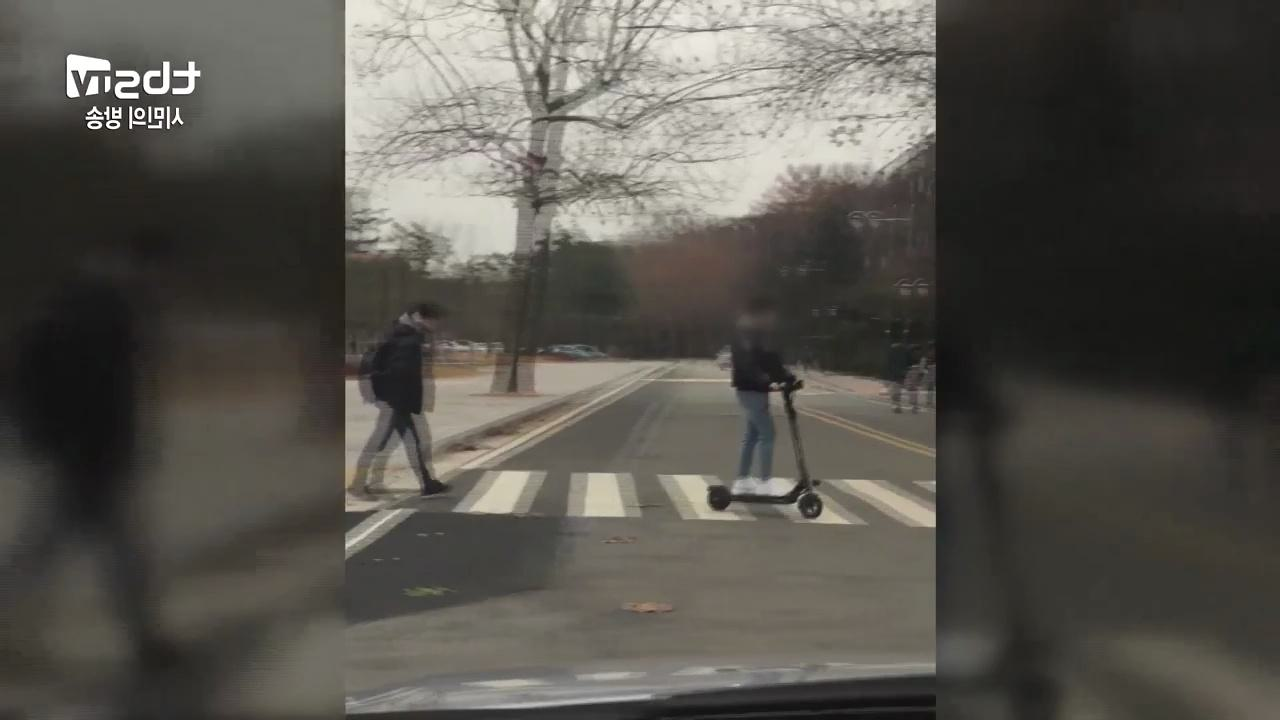nonhelmet: (702, 294, 831, 520)
